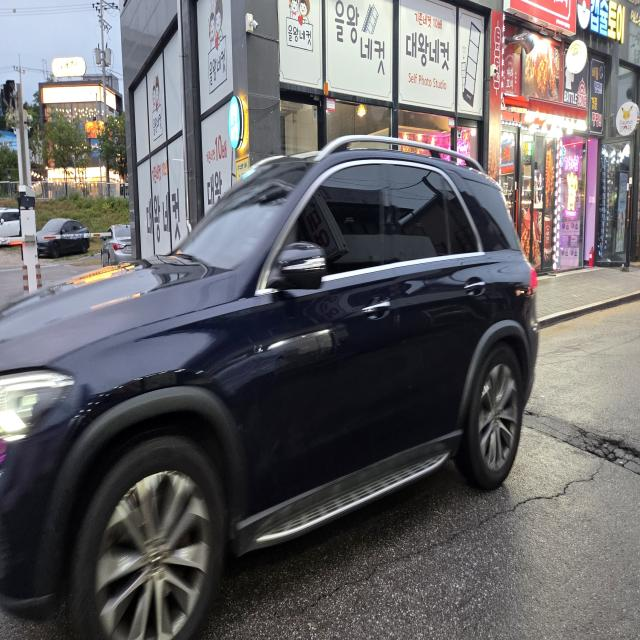car: (0, 124, 543, 640)
